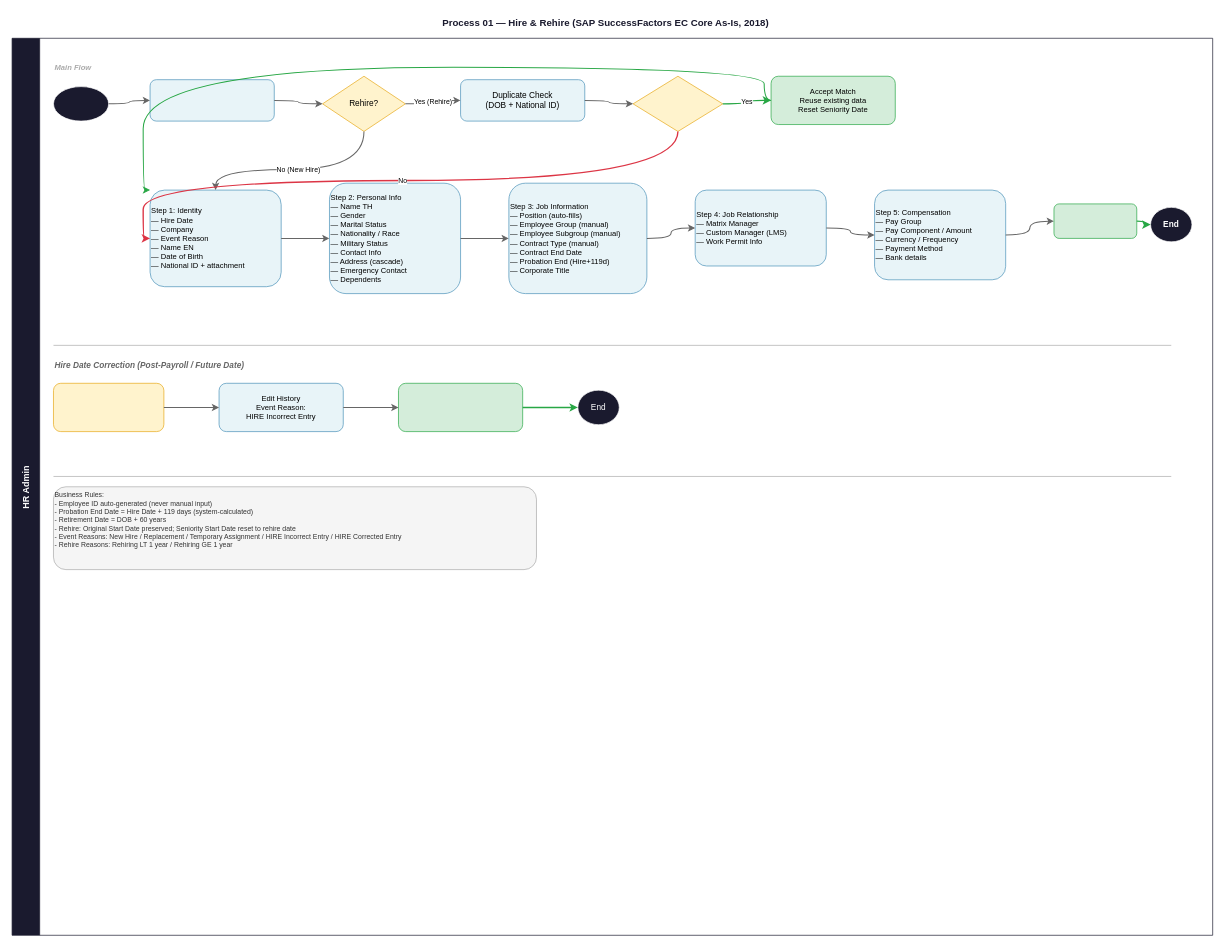
This 1225x947 diagram has some shape labels left out. The centre of each missing label's shape, as x and y in pixels:
Identify Incorrect Hire Date: (108,407)
Insert New Record Correct Date Event Reason: HIRE Corrected Entry: (460,407)
Match Found?: (677,103)
Search / Add New Employee: (211,100)
Start: (81,103)
Submit: (1095,220)
